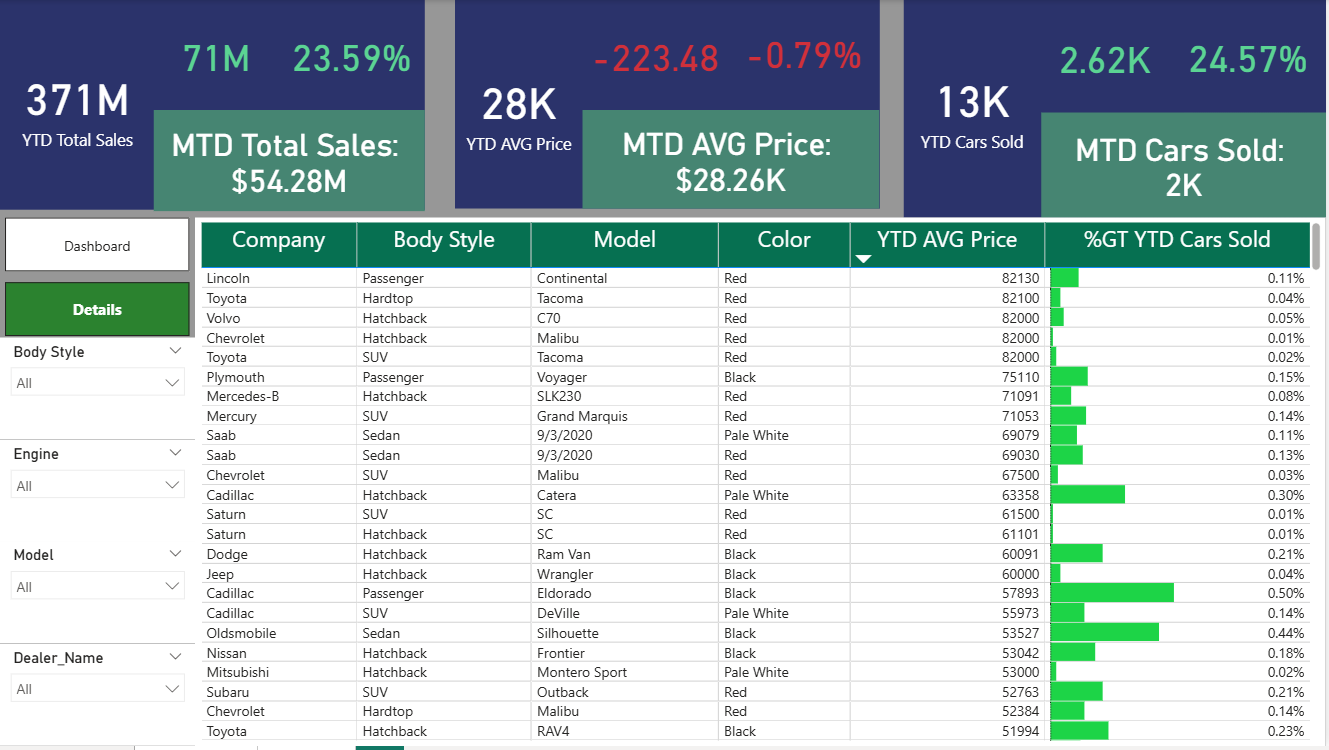

The dashboard page shown, as its layout file describes it:
{"tool":"powerbi","page":{"name":"Details","canvas":[1280,720],"ordinal":1},"visuals":[{"type":"shape","box":[0,0,410,202.5],"z":0},{"type":"shape","box":[872,0,408,210],"z":1000},{"type":"shape","box":[438.8,0,410,201.2],"z":2000},{"type":"card","fields":{"Values":["All Measure.YTD Total Sales"]},"box":[0,0,150,205.7],"z":3000},{"type":"card","fields":{"Values":["All Measure.Sales Diff"]},"box":[150,0,118.6,105.7],"z":4000},{"type":"card","fields":{"Values":["All Measure.YOY Total Sales"]},"box":[268.6,0,141.4,105.7],"z":5000},{"type":"card","fields":{"Values":["All Measure.Measure"]},"box":[148.8,106.2,261.2,97.5],"z":6000},{"type":"card","fields":{"Values":["All Measure.YTD AVG Price"]},"box":[438.8,3.8,123.8,206.2],"z":7000},{"type":"card","fields":{"Values":["All Measure.AVG Price Diff"]},"box":[560,4.3,145.7,95.7],"z":8000},{"type":"card","fields":{"Values":["All Measure.YOY AVG Price"]},"box":[705.7,0,140,100],"z":9000},{"type":"card","fields":{"Values":["All Measure.Measure 2"]},"box":[562.5,106.2,286.2,95],"z":10000},{"type":"card","fields":{"Values":["All Measure.YTD Cars Sold"]},"box":[872.5,0,132.5,210],"z":11000},{"type":"card","fields":{"Values":["All Measure.Cars Sold Diff"]},"box":[1005,0,123.8,108.8],"z":12000},{"type":"card","fields":{"Values":["All Measure.YOY Cars Sold"]},"box":[1128.8,0,151.2,107.5],"z":13000},{"type":"card","fields":{"Values":["All Measure.Measure 3"]},"box":[1005,108.8,275,101.2],"z":14000},{"type":"slicer","fields":{"Values":["car_data.Body Style"]},"box":[0,325.7,188.6,98.6],"z":15000},{"type":"slicer","fields":{"Values":["car_data.Engine"]},"box":[0,424.3,188.6,98.6],"z":16000},{"type":"slicer","fields":{"Values":["car_data.Model"]},"box":[0,522.9,188.6,98.6],"z":17000},{"type":"slicer","fields":{"Values":["car_data.Dealer_Name"]},"box":[0,621.4,188.6,98.6],"z":18000},{"type":"tableEx","fields":{"Values":["car_data.Company","car_data.Body Style","car_data.Model","car_data.Color","All Measure.YTD AVG Price","All Measure.YTD Cars Sold"]},"box":[188.6,210,1091.4,510],"z":19000},{"type":"pageNavigator","box":[4.3,210,178.6,115.7],"z":20000}]}

Visuals, with their boxes in screenshot pixels (x1, y1, x2, y2), scaled from the page's 1280x720 canvas onto the 1329x750 screenshot:
shape: bbox=(0, 0, 426, 211)
shape: bbox=(905, 0, 1328, 219)
shape: bbox=(456, 0, 881, 210)
card - All Measure.YTD Total Sales: bbox=(0, 0, 156, 214)
card - All Measure.Sales Diff: bbox=(156, 0, 279, 110)
card - All Measure.YOY Total Sales: bbox=(279, 0, 426, 110)
card - All Measure.Measure: bbox=(154, 111, 426, 212)
card - All Measure.YTD AVG Price: bbox=(456, 4, 584, 219)
card - All Measure.AVG Price Diff: bbox=(581, 4, 733, 104)
card - All Measure.YOY AVG Price: bbox=(733, 0, 878, 104)
card - All Measure.Measure 2: bbox=(584, 111, 881, 210)
card - All Measure.YTD Cars Sold: bbox=(906, 0, 1043, 219)
card - All Measure.Cars Sold Diff: bbox=(1043, 0, 1172, 113)
card - All Measure.YOY Cars Sold: bbox=(1172, 0, 1328, 112)
card - All Measure.Measure 3: bbox=(1043, 113, 1328, 219)
slicer - car_data.Body Style: bbox=(0, 339, 196, 442)
slicer - car_data.Engine: bbox=(0, 442, 196, 545)
slicer - car_data.Model: bbox=(0, 545, 196, 647)
slicer - car_data.Dealer_Name: bbox=(0, 647, 196, 749)
tableEx - car_data.Company x car_data.Body Style: bbox=(196, 219, 1328, 749)
pageNavigator: bbox=(4, 219, 190, 339)
